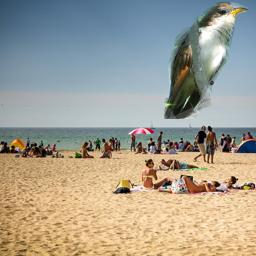Cuckoo: (164, 2, 248, 119)
